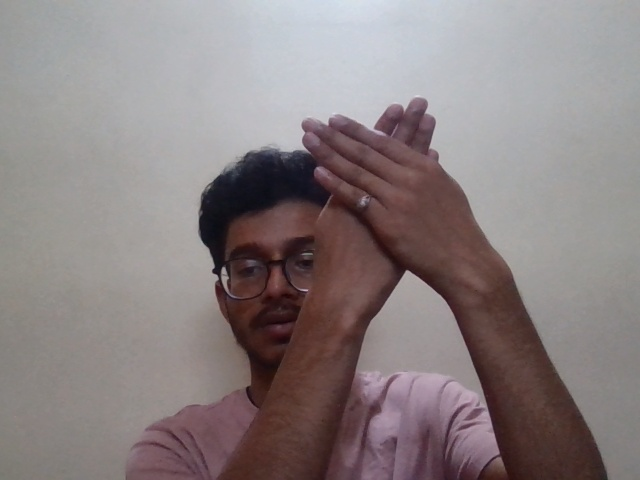what: (272, 94, 529, 314)
